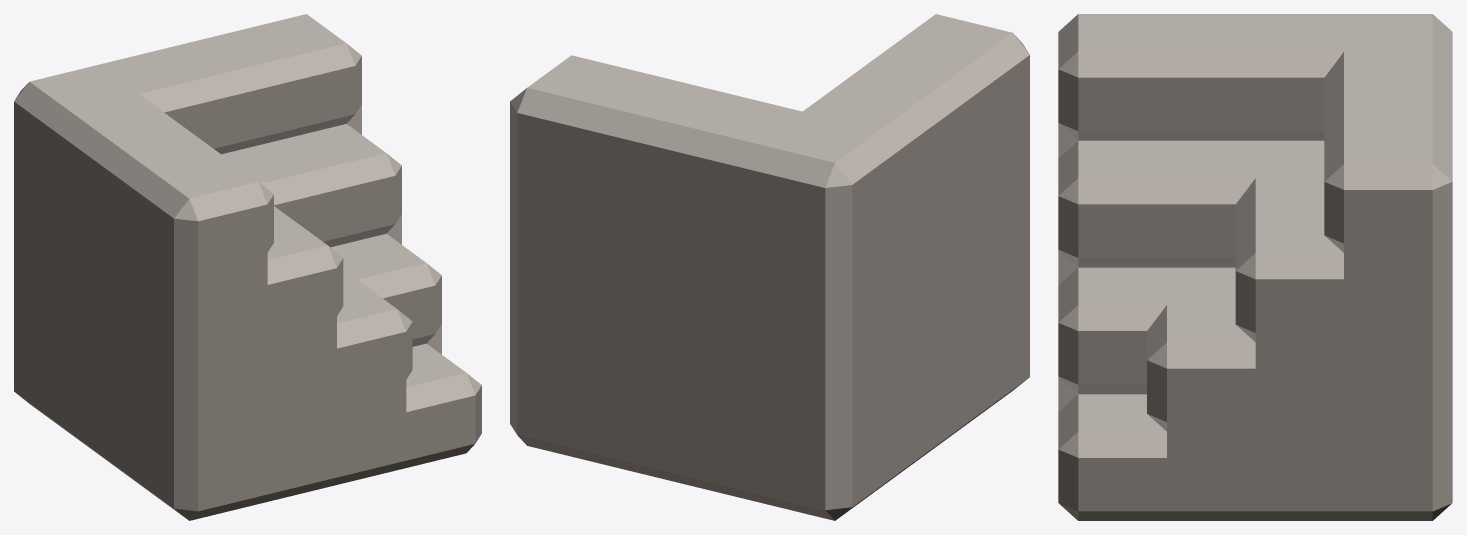
Rendered from m_kub_stone_stairs_block_cornerIn.FBX.
The picture shows the model from 3 angles, left to right: view 1: azimuth 30°, elevation 25°; view 2: azimuth 150°, elevation 25°; view 3: azimuth 270°, elevation 25°; orthographic projection. The views are drawn at different scales.
Visible parts, largest first — view 1: m_kub_stone_stairs_block_cornerIn; view 2: m_kub_stone_stairs_block_cornerIn; view 3: m_kub_stone_stairs_block_cornerIn.
Part boxes in pixels (x1,y1,x2,y2): m_kub_stone_stairs_block_cornerIn: (14,14,481,520); m_kub_stone_stairs_block_cornerIn: (510,14,1029,520); m_kub_stone_stairs_block_cornerIn: (1058,14,1452,520).
Size of the model in its own units: 2 by 2 by 2.
